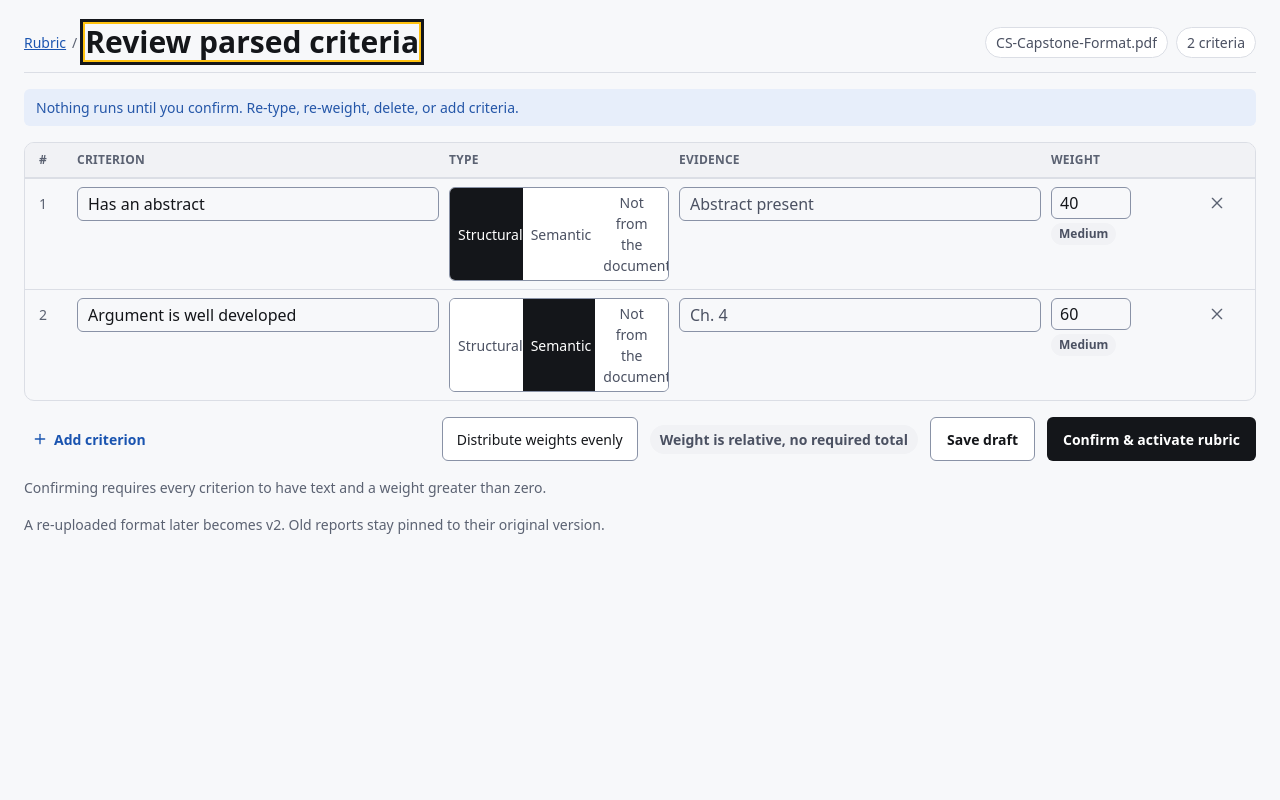
Scenario: ReviewCriteriaPage › BUG-052 (backend review finding): a zeroed-out weight blocks Confirm client-side, with an actionable message
The image size is (1280, 800).
Clear the field named "Criterion 1 weight". click: [1091, 203]
box: [1051,187,1131,219]
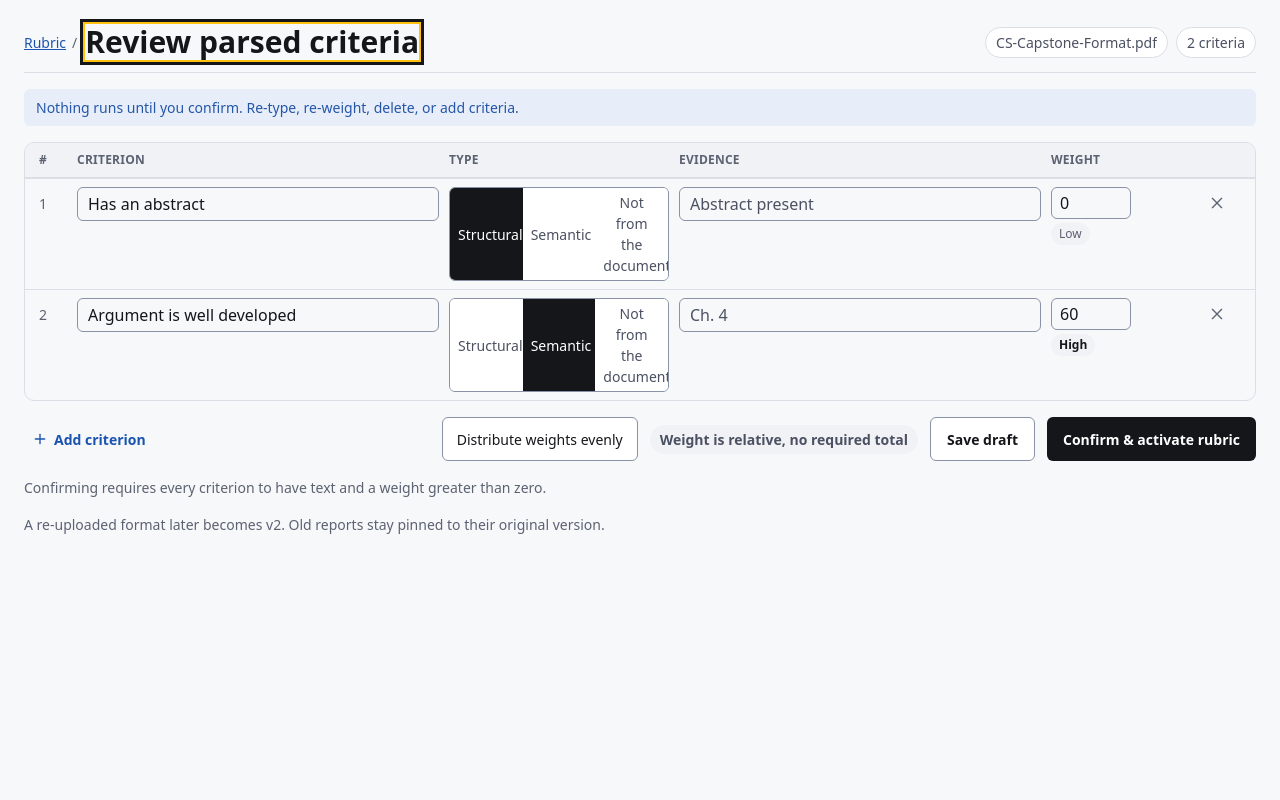
Click the button "Confirm & activate rubric". click: [1152, 439]
box: [1047,417,1256,461]
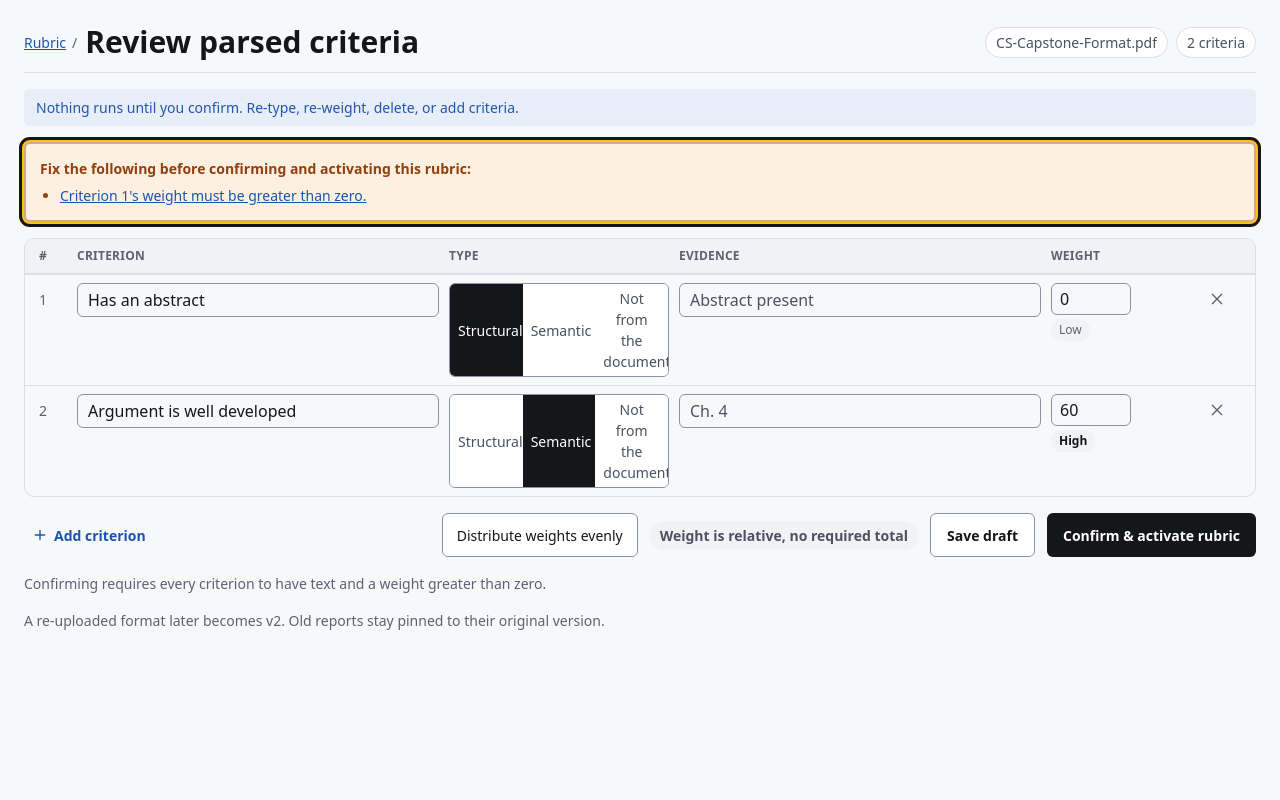
Check: the message shows "Criterion 1's weight must be greater than zero.", box [60,185,366,206]
